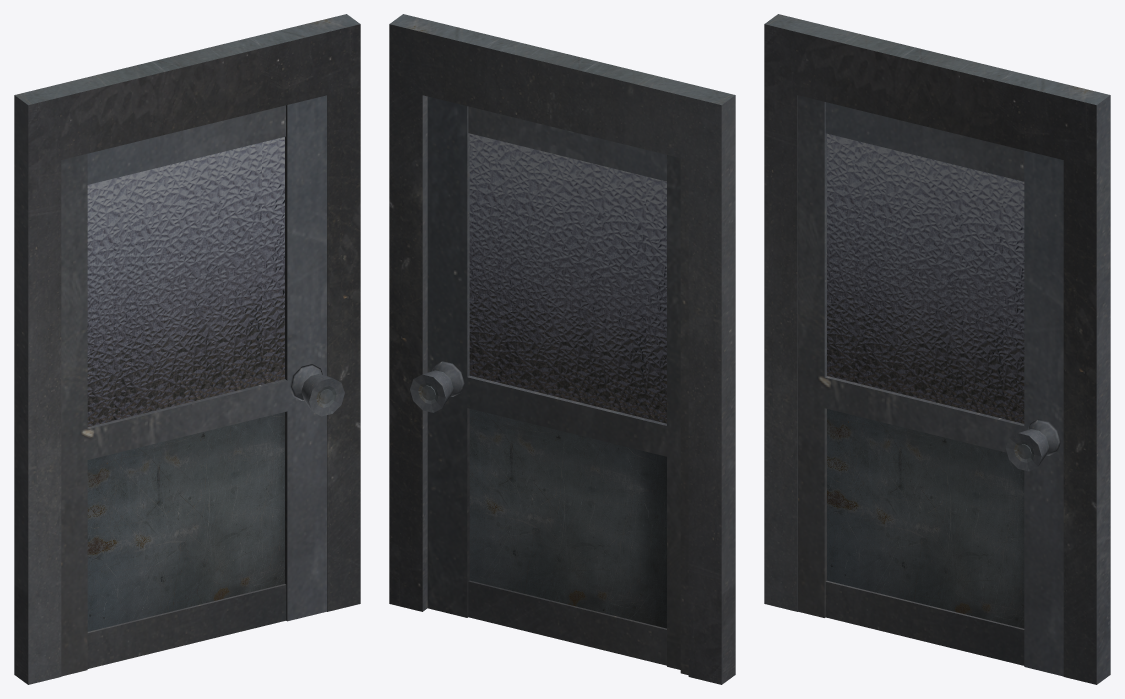
Rendered from ReBackDoor.fbx.
The picture shows the model from 3 angles, left to right: view 1: azimuth 30°, elevation 25°; view 2: azimuth 150°, elevation 25°; view 3: azimuth 330°, elevation 25°; orthographic projection.
Parts seen in each view (by area): view 1: DoorBase, BackDoor1:Flame, BackDoor1:DoorKnob2; view 2: DoorBase, BackDoor1:Flame, BackDoor1:DoorKnob1; view 3: DoorBase, BackDoor1:Flame, BackDoor1:DoorKnob2.
Boxes of the visible parts, x1,y1,x2,y2 form: DoorBase: (61,95,326,676); BackDoor1:Flame: (14,14,360,684); BackDoor1:DoorKnob2: (289,364,344,416); DoorBase: (427,96,680,669); BackDoor1:Flame: (389,14,735,684); BackDoor1:DoorKnob1: (410,361,464,412); DoorBase: (798,95,1063,676); BackDoor1:Flame: (764,14,1110,684); BackDoor1:DoorKnob2: (1005,419,1060,471).
Size of the model in its own units: 180 by 300 by 45.51.
